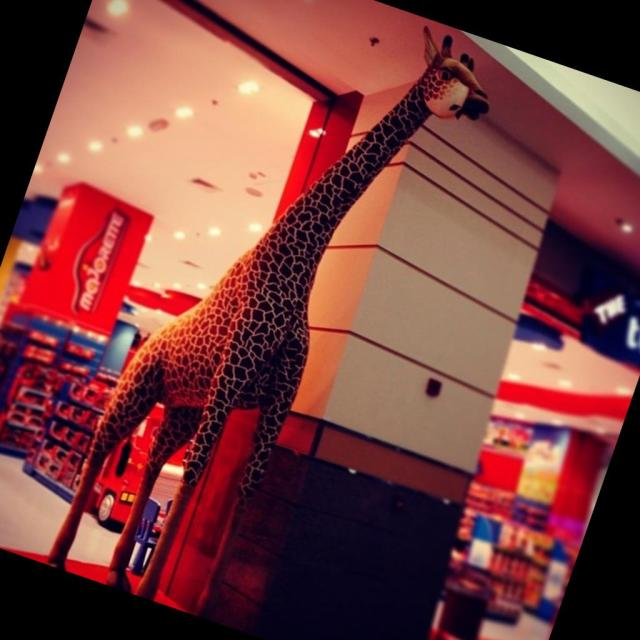Giraffe: (42, 21, 490, 598)
